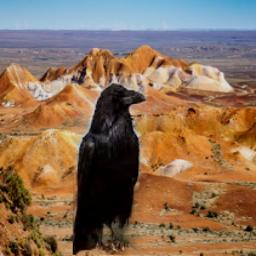Crow: (72, 83, 146, 256)
